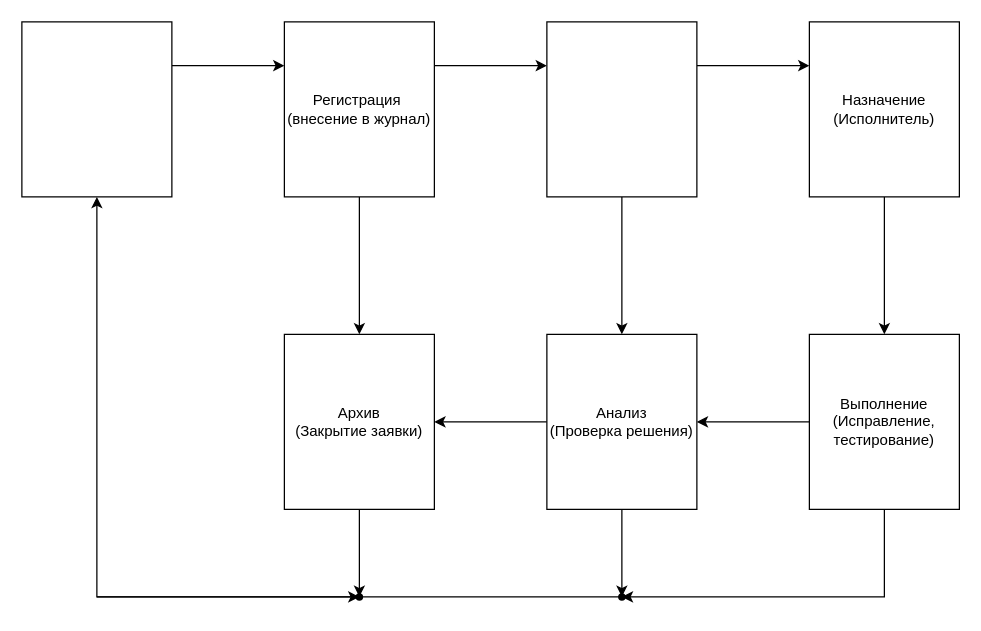
Image size: 981x631. Some labels were removed from this diagram. The centre of each missing label's shape, as x and y in pixels:
Классификация (Тип,приоритет): the point at 621,109
Пользователь (сообщает о проблеме): the point at 96,109
